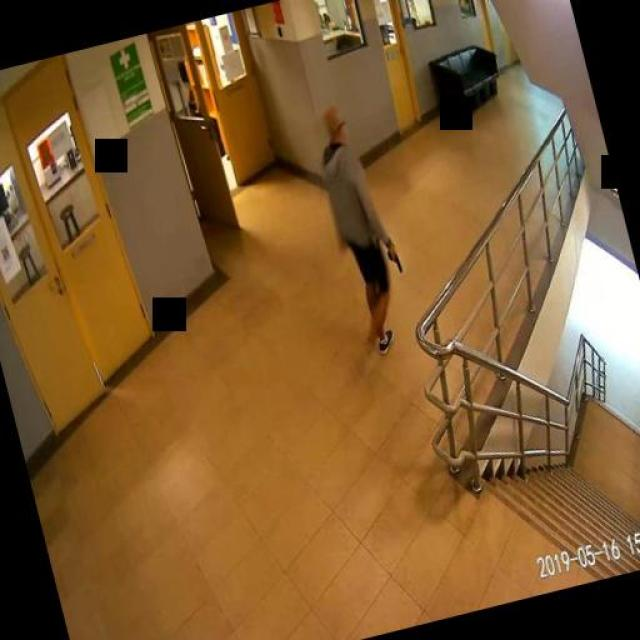gun: (385, 240, 403, 274)
